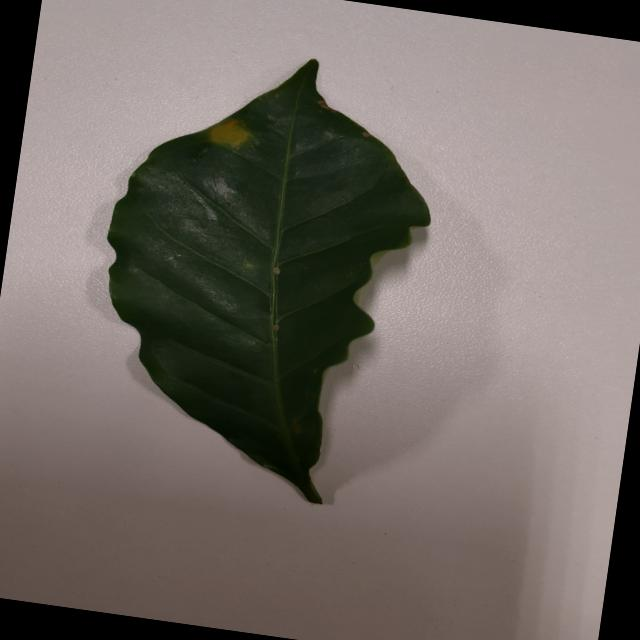KaratDaunKopi: (210, 120, 249, 148)
